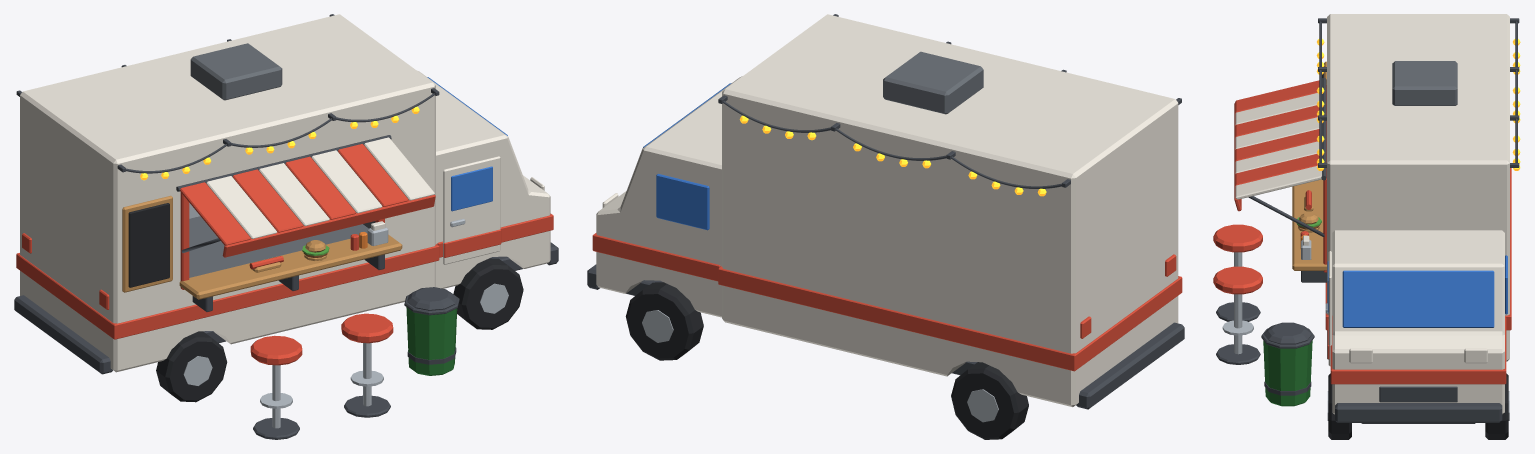
The model's file is low-poly-food-truck.glb.
3 renders of one model, left to right at view 1: azimuth 30°, elevation 25°; view 2: azimuth 150°, elevation 25°; view 3: azimuth 270°, elevation 25°, orthographic. The views are drawn at different scales.
Visible parts, largest first — view 1: Body, Awning, Cab, Stripe_Body, TrashBin, Counter, RoofVent, Door, MenuBoard, Wheel_FR, Wheel_RR, Stool_2 (+12 smaller); view 2: Body, Cab, Stripe_Body, RoofVent, Wheel_FL, Wheel_RL, Bumper_Rear, CabWindow_R, Stripe_Cab, StringLight_Wire, Wheel_FL_Hub, Wheel_RL_Hub (+1 smaller); view 3: Body, Cab, Windshield, Awning, TrashBin, Bumper_Front, Stripe_Cab, RoofVent, Stool_2, Counter, Stool_1, Grille (+12 smaller).
Part boxes in pixels (left/top/right/bottom): Body: left=20, top=14, right=435, bottom=372; Awning: left=180, top=137, right=435, bottom=257; Cab: left=417, top=70, right=550, bottom=288; Stripe_Body: left=16, top=244, right=439, bottom=339; TrashBin: left=404, top=287, right=459, bottom=375; Counter: left=179, top=234, right=402, bottom=299; RoofVent: left=190, top=43, right=282, bottom=100; Door: left=443, top=156, right=500, bottom=264; MenuBoard: left=128, top=203, right=169, bottom=287; Wheel_FR: left=453, top=258, right=523, bottom=329; Wheel_RR: left=156, top=331, right=227, bottom=402; Stool_2: left=341, top=313, right=393, bottom=417; Body: left=722, top=14, right=1178, bottom=407; Cab: left=596, top=76, right=742, bottom=317; Stripe_Body: left=718, top=266, right=1182, bottom=371; RoofVent: left=883, top=51, right=983, bottom=114; Wheel_FL: left=625, top=282, right=703, bottom=360; Wheel_RL: left=951, top=362, right=1028, bottom=439; Bumper_Rear: left=1076, top=322, right=1184, bottom=409; CabWindow_R: left=656, top=173, right=709, bottom=230; Stripe_Cab: left=592, top=233, right=720, bottom=281; StringLight_Wire: left=718, top=14, right=1181, bottom=188; Wheel_FL_Hub: left=642, top=310, right=673, bottom=342; Wheel_RL_Hub: left=967, top=389, right=998, bottom=422; Body: left=1327, top=14, right=1509, bottom=361; Cab: left=1332, top=230, right=1504, bottom=414; Windshield: left=1342, top=270, right=1494, bottom=327; Awning: left=1234, top=80, right=1321, bottom=211; TrashBin: left=1261, top=322, right=1314, bottom=406; Bumper_Front: left=1335, top=403, right=1502, bottom=422; Stripe_Cab: left=1330, top=317, right=1506, bottom=384; RoofVent: left=1392, top=61, right=1457, bottom=105; Stool_2: left=1213, top=266, right=1262, bottom=364; Counter: left=1292, top=179, right=1326, bottom=270; Stool_1: left=1213, top=224, right=1262, bottom=321; Grille: left=1379, top=386, right=1457, bottom=402.
Size of the model in its own units: 19.2 by 11.3 by 11.75.
